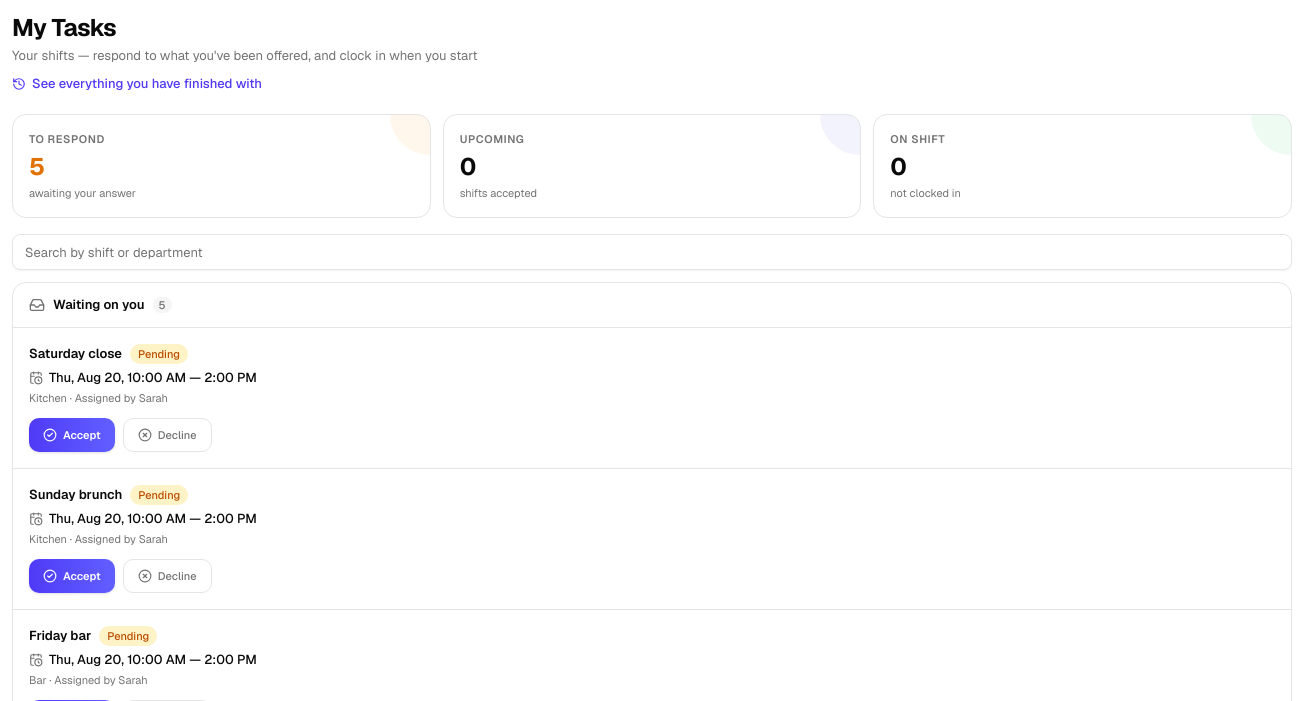
Test: searching what is on the plate › narrows to matching shift names
Check: the heading "Saturday close" is shown, box [29,344,122,364]
In the field named "Search your shifts": (652, 252) [12,234,1292,270], type "brunch"
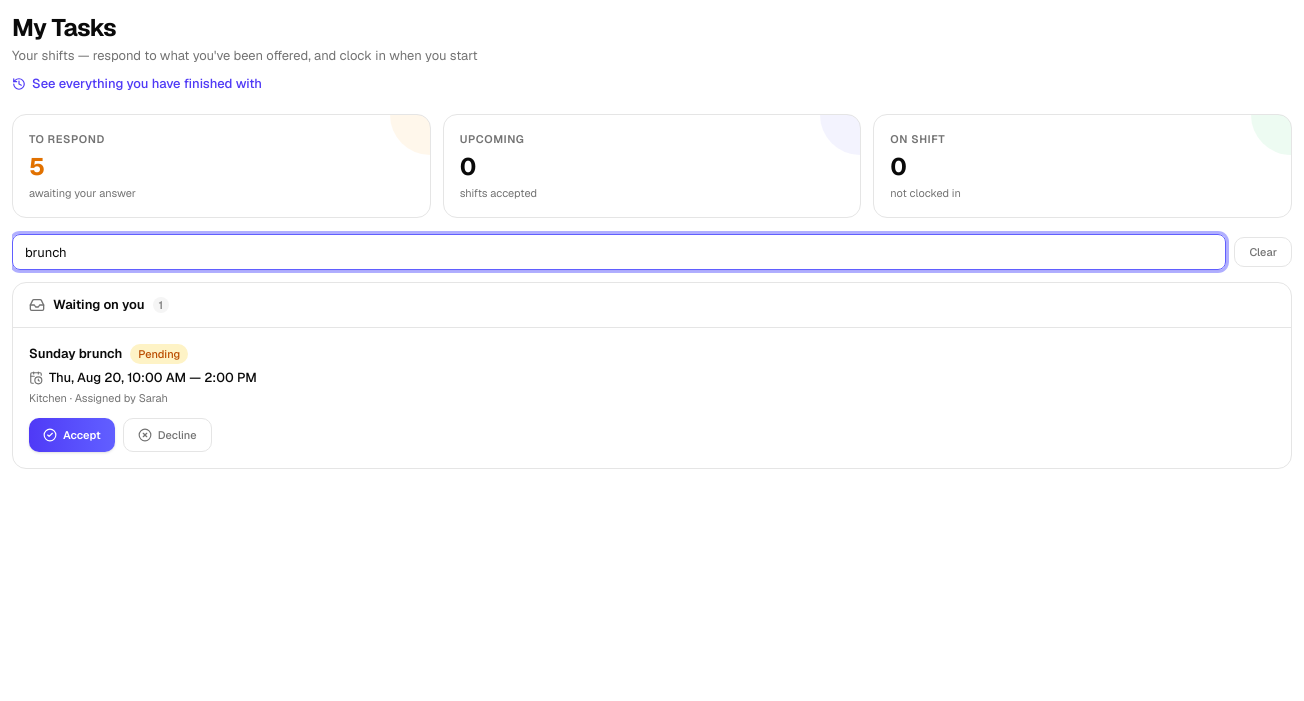
Check: the heading "Sunday brunch" is shown, box [29,344,122,364]
Check: the heading "Saturday close" is gone
